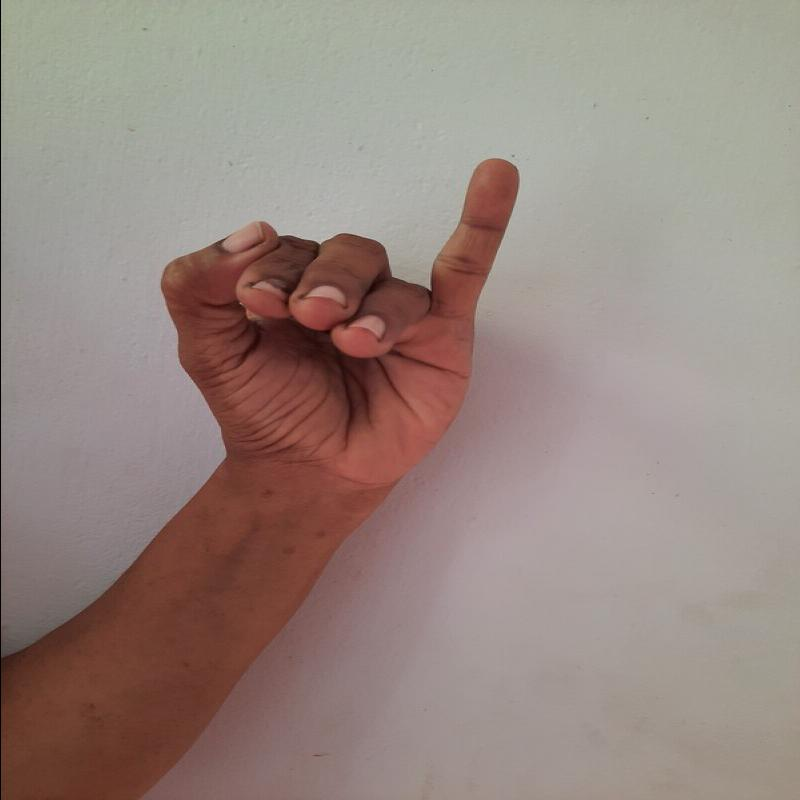Kartharee Mukham: (157, 145, 532, 491)
